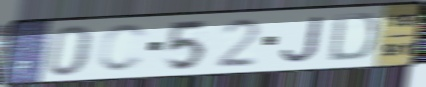0: (45, 23, 96, 78)
2: (215, 17, 265, 70)
5: (161, 17, 212, 72)
C: (95, 21, 151, 74)
D: (325, 11, 380, 63)
J: (279, 14, 327, 65)
